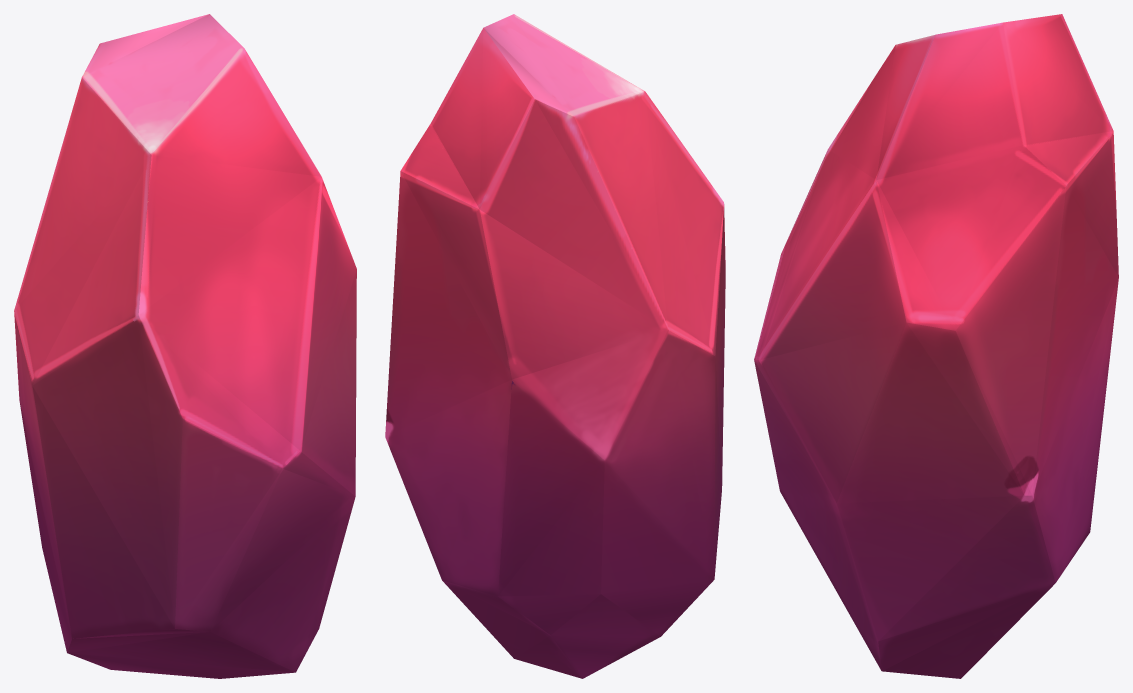
Rendered from Crystal_01.glb.
The picture shows the model from 3 angles, left to right: view 1: azimuth 30°, elevation 25°; view 2: azimuth 150°, elevation 25°; view 3: azimuth 270°, elevation 25°; orthographic projection. The views are drawn at different scales.
Parts seen in each view (by area): view 1: Object_2.002; view 2: Object_2.002; view 3: Object_2.002.
Part boxes in pixels (<box>): Object_2.002: <box>14,14,356,678</box>; Object_2.002: <box>385,14,725,678</box>; Object_2.002: <box>754,14,1118,678</box>.
Size of the model in its own units: 1.61 by 3.22 by 1.61.
1 material, 1 textured.
